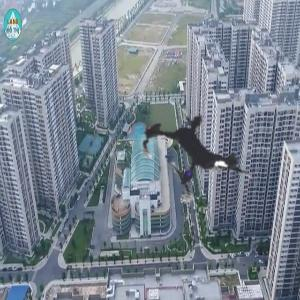drone: (106, 71, 278, 243)
